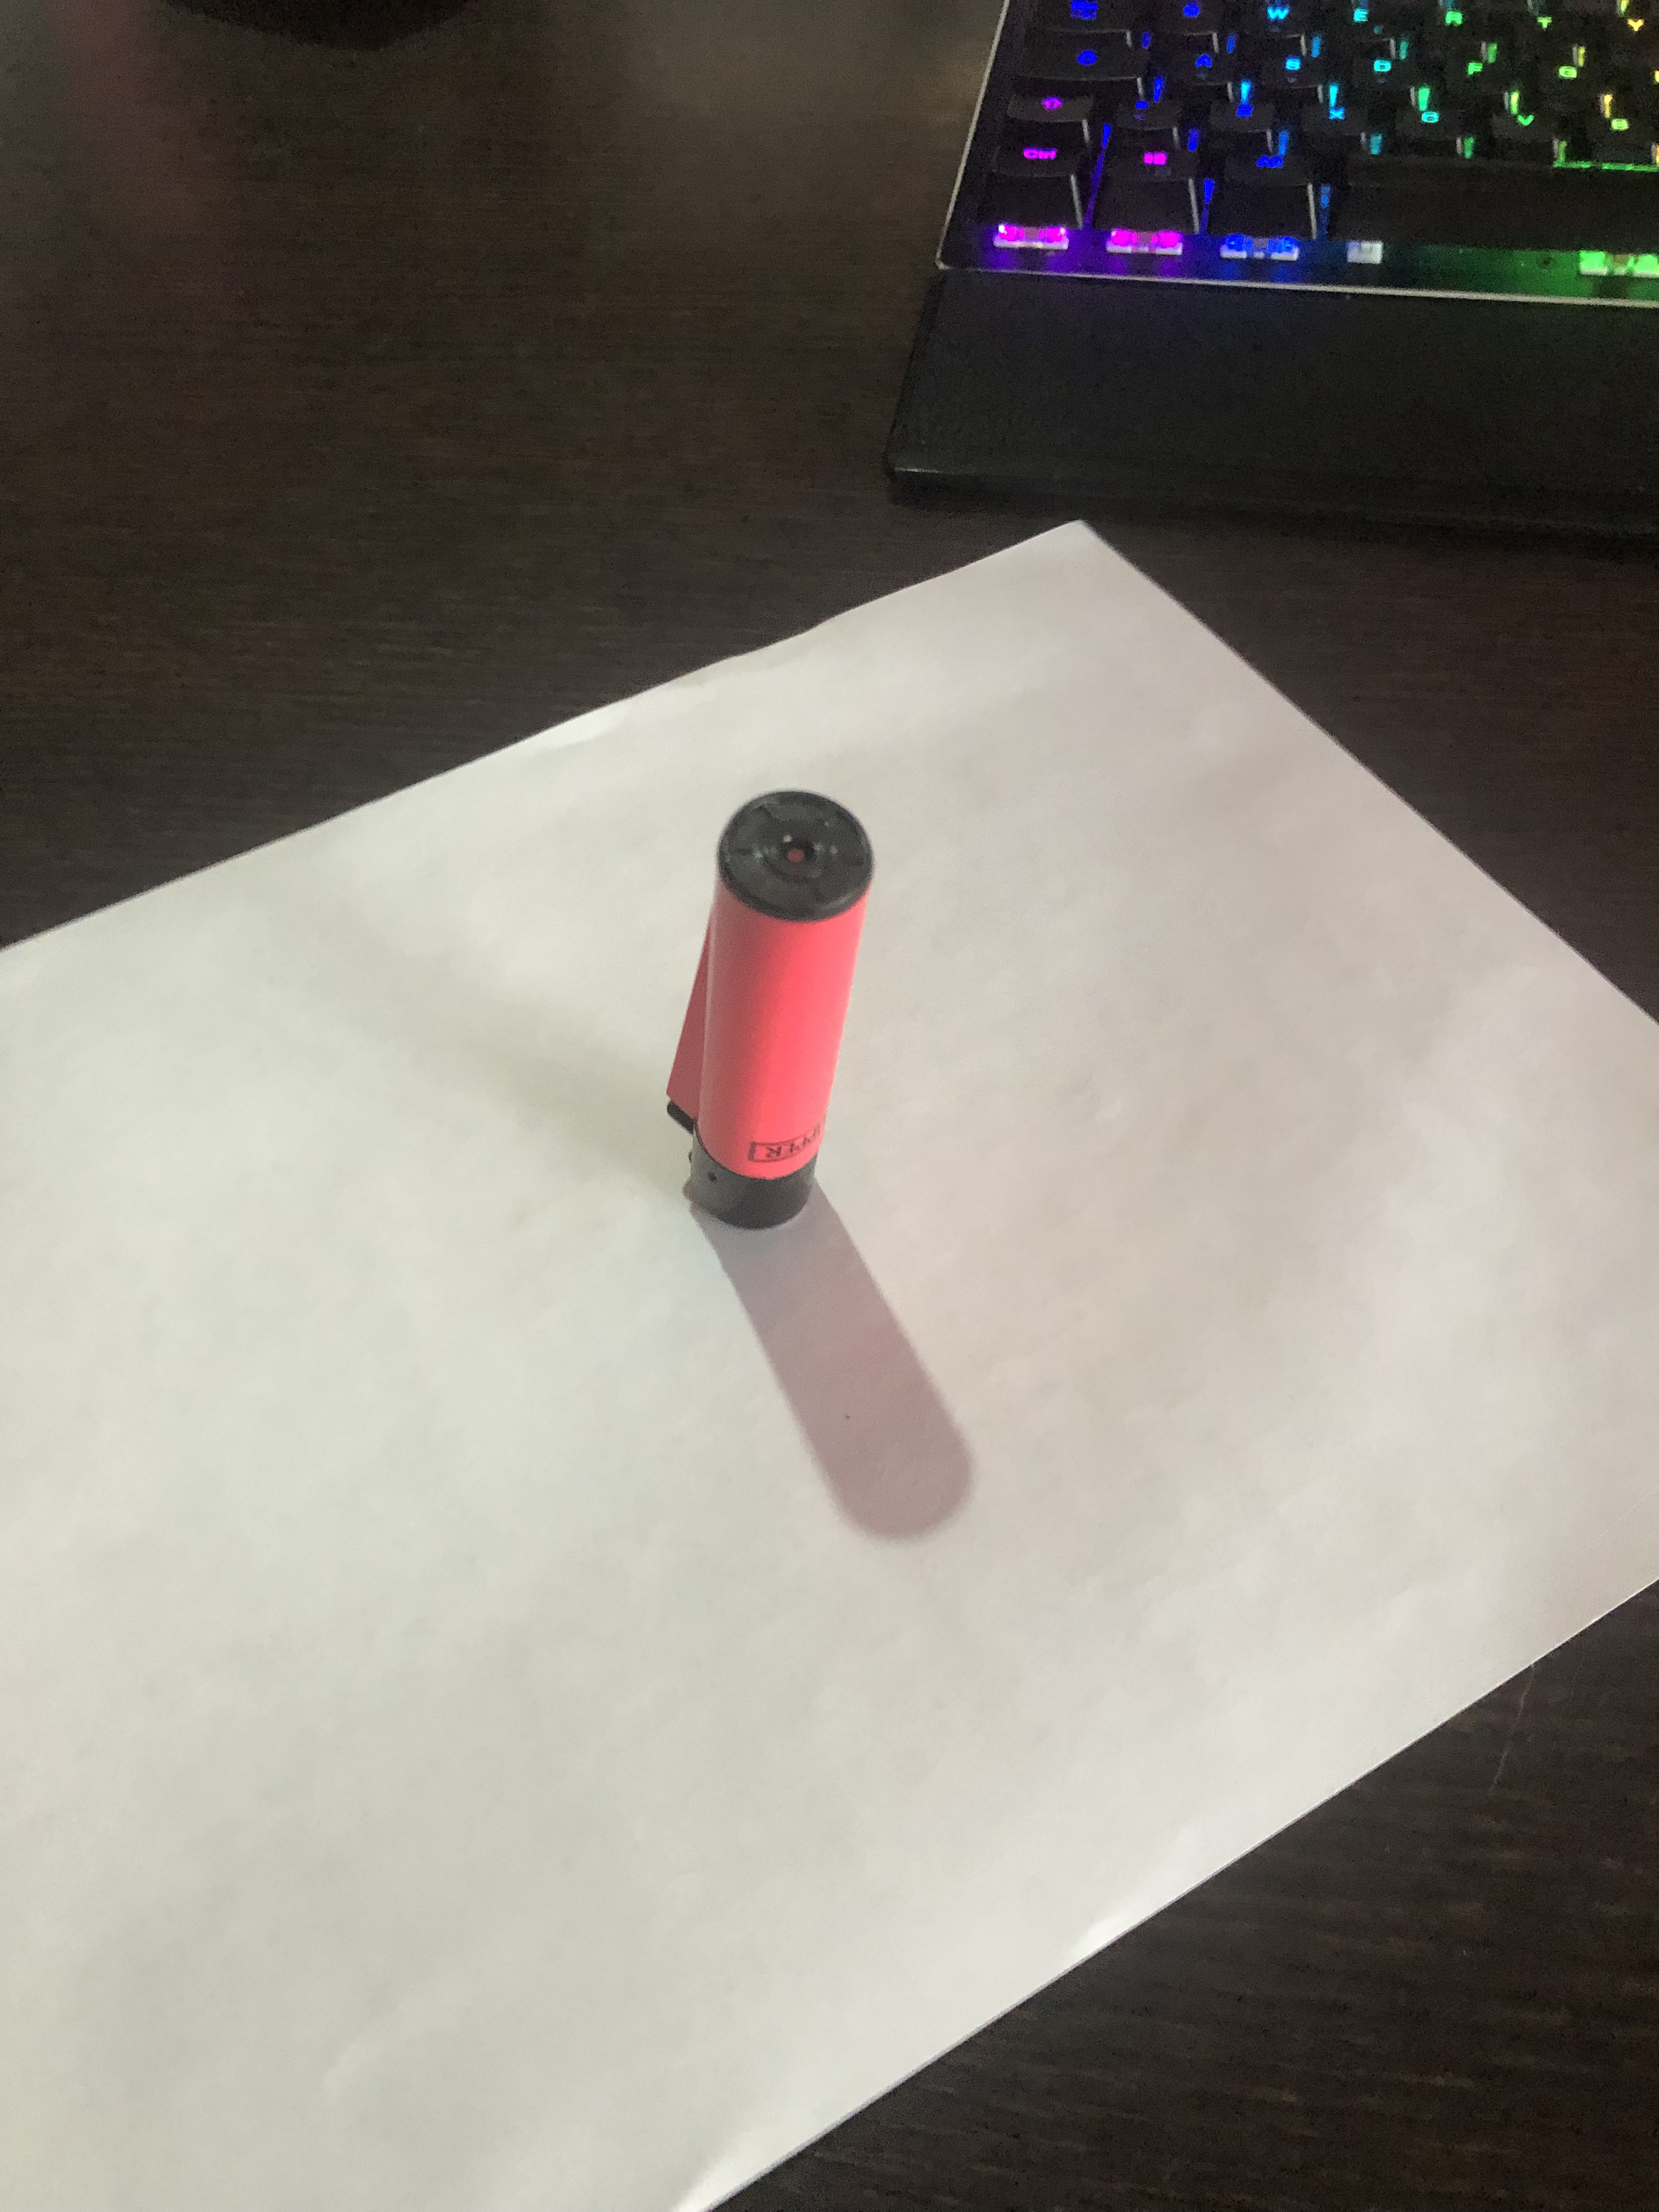Mechero: (660, 780, 915, 1252)
